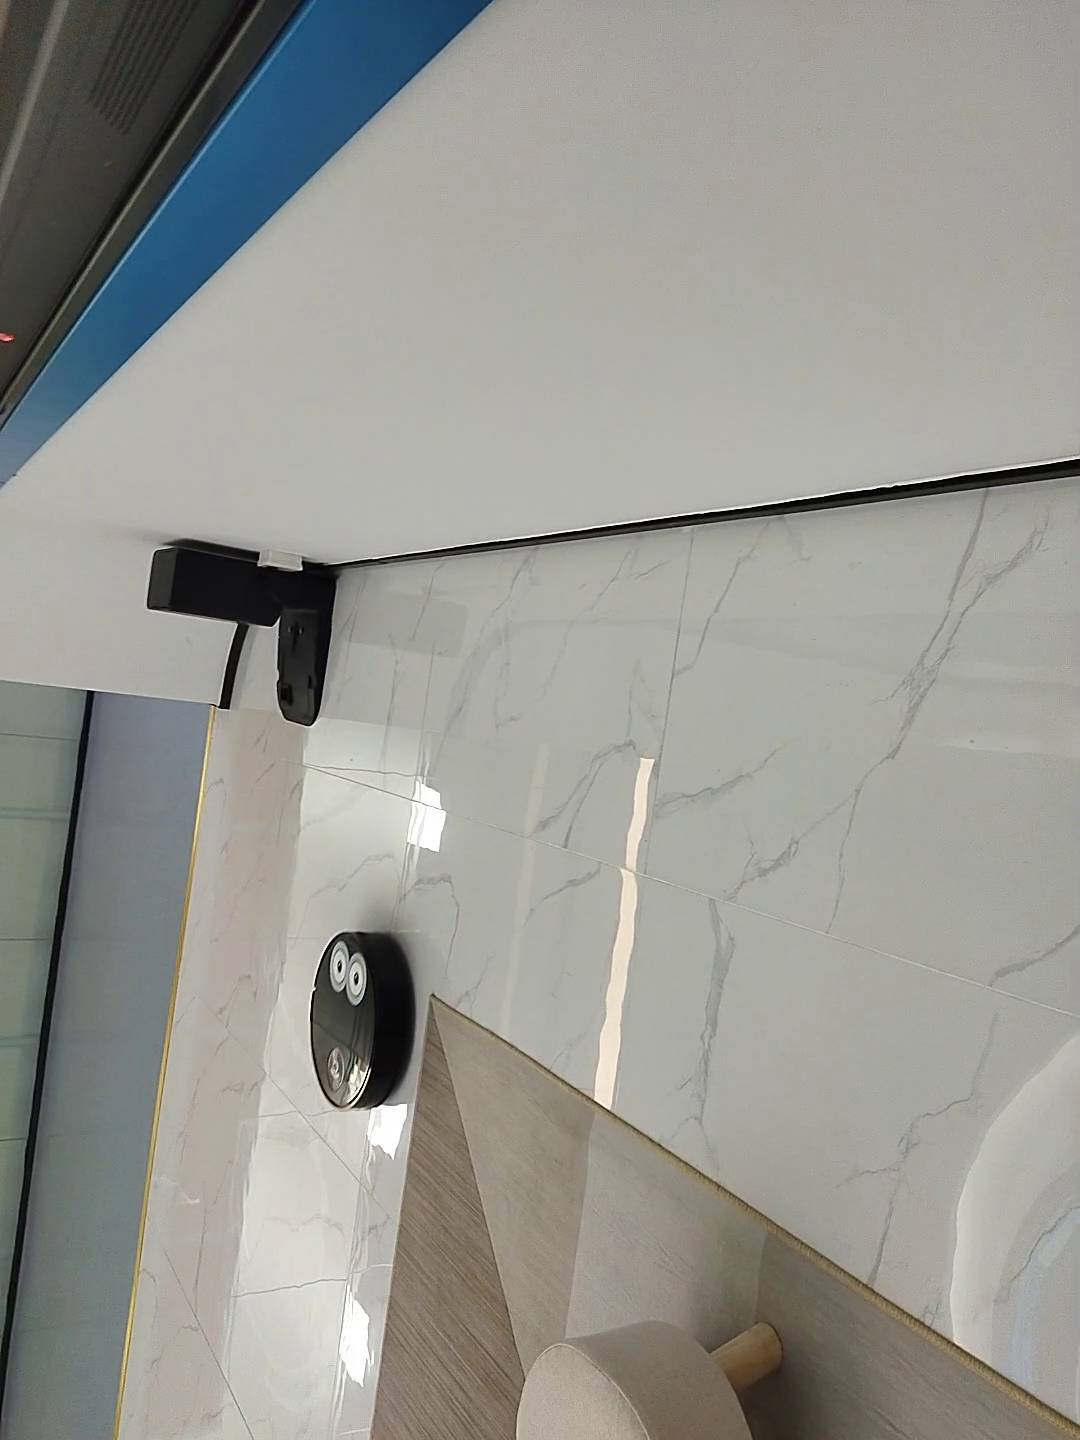dust collecting barrel: (146, 545, 341, 727)
